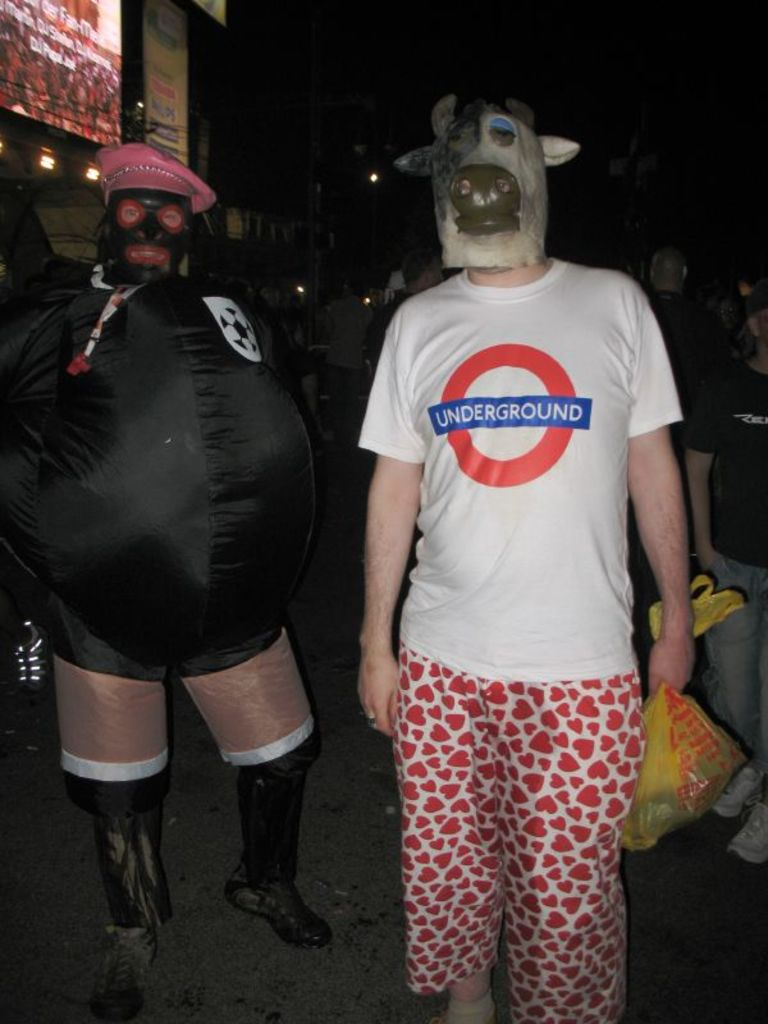Footwear: (220, 879, 332, 950), (82, 925, 163, 1023), (707, 758, 767, 824), (726, 795, 767, 867)
